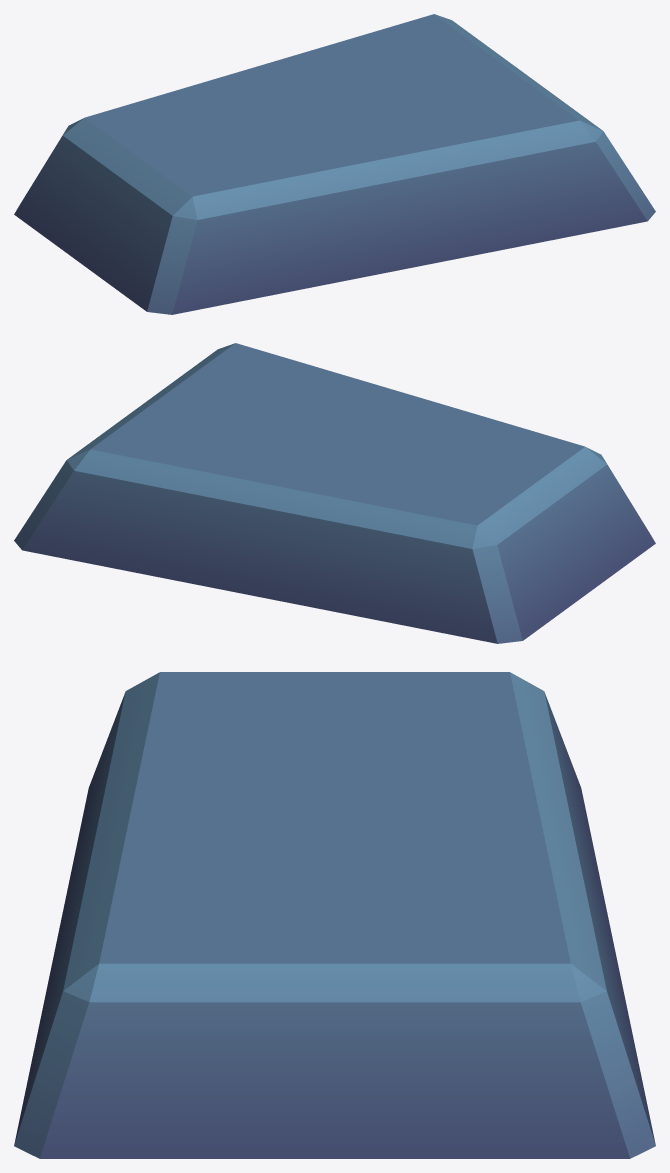
The model's file is Roadstones-3-5.fbx.
The picture shows the model from 3 angles, top to bottom: view 1: azimuth 30°, elevation 25°; view 2: azimuth 150°, elevation 25°; view 3: azimuth 270°, elevation 25°; orthographic projection. The views are drawn at different scales.
Visible parts, largest first — view 1: Roadstones-3-5; view 2: Roadstones-3-5; view 3: Roadstones-3-5.
Boxes of the visible parts, x1,y1,x2,y2 form: Roadstones-3-5: [14, 14, 655, 314]; Roadstones-3-5: [14, 343, 655, 643]; Roadstones-3-5: [14, 672, 655, 1158].
Size of the model in its own units: 99.29 by 18.02 by 70.24.
